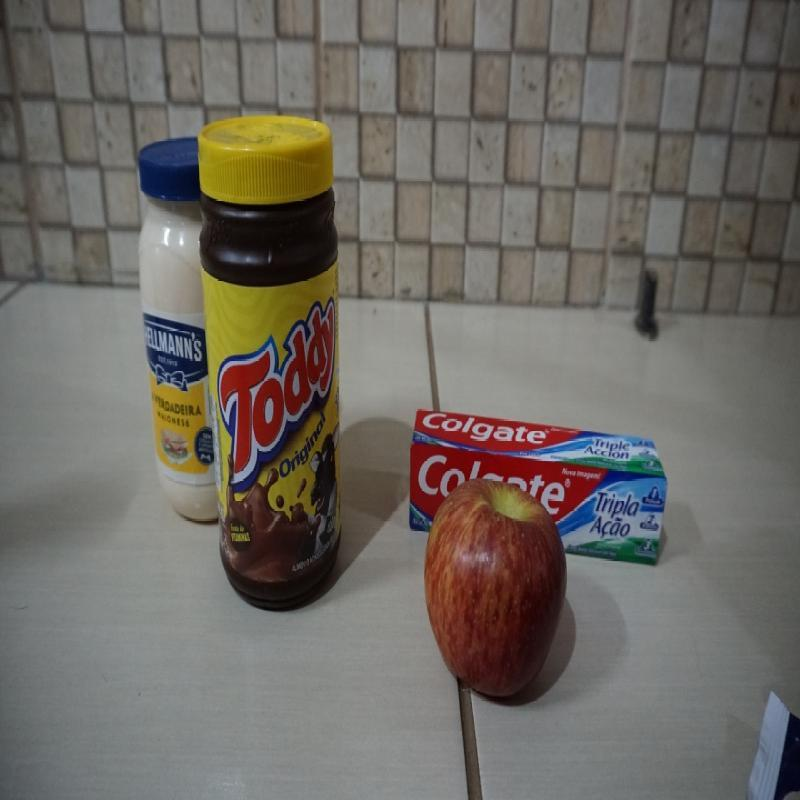Apple: (423, 476, 571, 697)
Chocolate Powder: (200, 113, 346, 618)
Mayonnaise: (133, 125, 221, 528)
Toothpaste: (409, 403, 670, 566)
